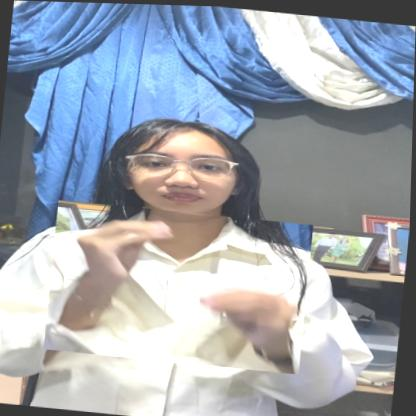Fix: (45, 200, 315, 373)
